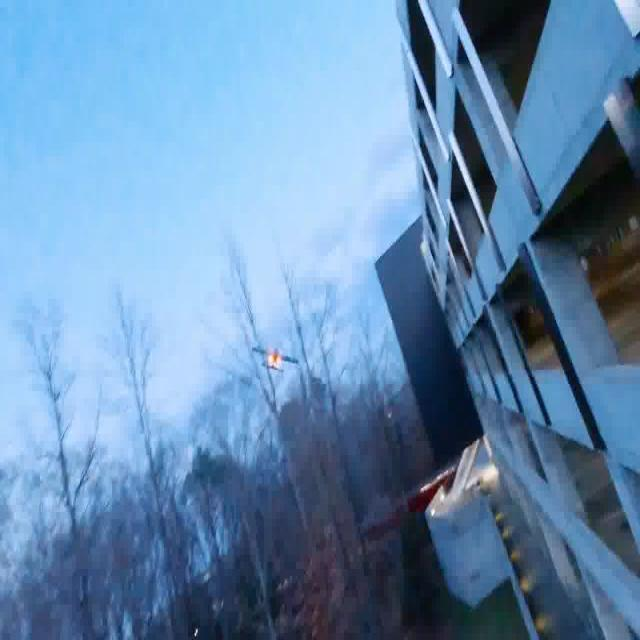iha: (247, 343, 299, 388)
